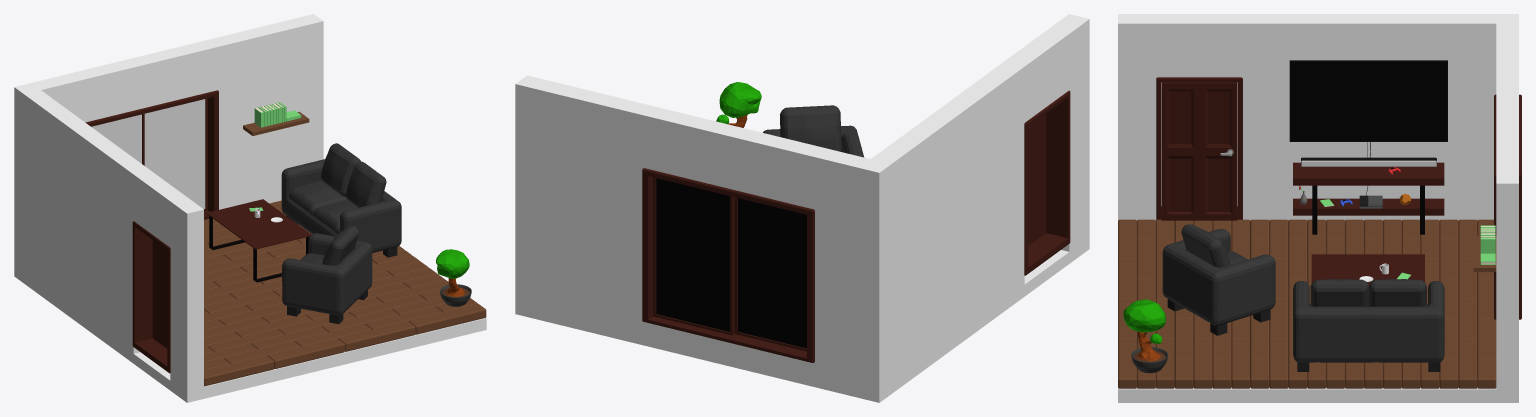
File: LPRoom.fbx
3 renders of one model, left to right at view 1: azimuth 30°, elevation 25°; view 2: azimuth 150°, elevation 25°; view 3: azimuth 270°, elevation 25°, orthographic. The views are drawn at different scales.
Visible parts, largest first — view 1: room.001, floor.001, glass2.001, sofa.003, sofa.002, door.001, table.002, pillow1.005, WindowDoor.001, pillow1.004, Door.001, glass.001 (+4 smaller); view 2: room.001, glass2.001, glass.001, WindowDoor.001, door.001, pillow1.007, Door.001, rim2.001, Icosphere.006, rim.001, sofa.003; view 3: room.001, floor.001, TV.001, Door.001, sofa.002, sofa.003, table.003, pillow1.005, table.002, door.001, soundbar.001, pillow1.007 (+5 smaller).
Part boxes in pixels (x1,y1,x2,y2): room.001: (14,14,486,402); floor.001: (204,200,486,386); glass2.001: (144,99,205,208); sofa.003: (282,233,372,315); sofa.002: (281,159,401,252); door.001: (132,221,170,373); table.002: (206,199,311,282); pillow1.005: (320,143,386,207); WindowDoor.001: (85,90,218,219); pillow1.004: (289,180,357,234); Door.001: (152,240,167,348); glass.001: (91,114,141,163); room.001: (515,14,1089,402); glass2.001: (656,178,729,331); glass.001: (738,198,806,348); WindowDoor.001: (642,168,814,362); door.001: (1024,90,1070,275); pillow1.007: (780,105,841,151); Door.001: (1028,113,1046,245); rim2.001: (653,177,734,335); Icosphere.006: (719,82,761,117); rim.001: (734,197,806,351); sofa.003: (763,125,864,157); room.001: (1118,14,1518,402); floor.001: (1118,219,1496,388); TV.001: (1289,60,1447,141); Door.001: (1161,82,1237,220); sofa.002: (1293,281,1444,362); sofa.003: (1162,229,1275,325); table.003: (1293,162,1444,234); pillow1.005: (1310,279,1426,306); table.002: (1311,254,1424,285); door.001: (1156,77,1242,219); soundbar.001: (1301,157,1436,166); pillow1.007: (1181,224,1230,267).
Size of what is drawn, in the model's own units: 532 by 320 by 534.
